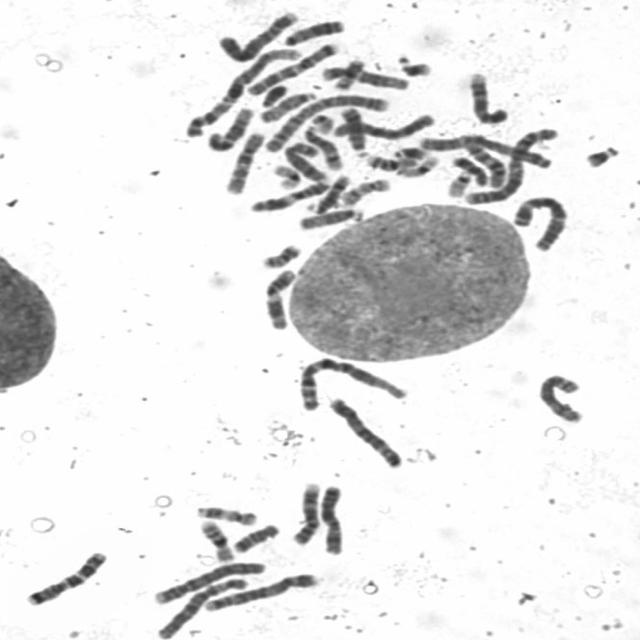A1: (182, 44, 306, 138), (294, 354, 412, 412)
A2: (456, 123, 560, 207), (257, 90, 393, 154)
A3: (415, 131, 555, 170), (507, 192, 570, 253)
B4: (147, 558, 269, 606), (213, 6, 302, 64)
B5: (324, 393, 407, 470), (201, 570, 318, 613)
C10: (220, 127, 269, 196), (462, 132, 509, 188)
C11: (246, 177, 332, 214), (258, 265, 298, 331)
C12: (204, 102, 258, 152), (316, 63, 412, 91)
C6: (152, 572, 252, 640), (327, 110, 438, 140)
C7: (244, 38, 341, 96), (20, 547, 111, 607)
C8: (533, 370, 585, 424), (280, 139, 330, 183)
C9: (463, 69, 510, 125), (287, 479, 322, 547)
D13: (277, 15, 347, 46), (336, 105, 368, 156)
D14: (299, 122, 345, 171), (304, 172, 352, 215)
D15: (254, 87, 319, 124), (294, 205, 365, 232)
E16: (196, 514, 239, 564), (362, 153, 419, 171)
E17: (336, 175, 396, 207), (191, 501, 260, 526)
E18: (228, 518, 284, 554), (448, 153, 491, 187)
F19: (394, 153, 442, 179), (269, 160, 304, 190)
F20: (258, 239, 306, 270), (329, 56, 366, 92)
G21: (579, 140, 623, 169), (388, 143, 430, 161)
G22: (442, 167, 474, 198), (306, 108, 338, 135)
X: (316, 480, 347, 557)
Y: (257, 81, 290, 109)
